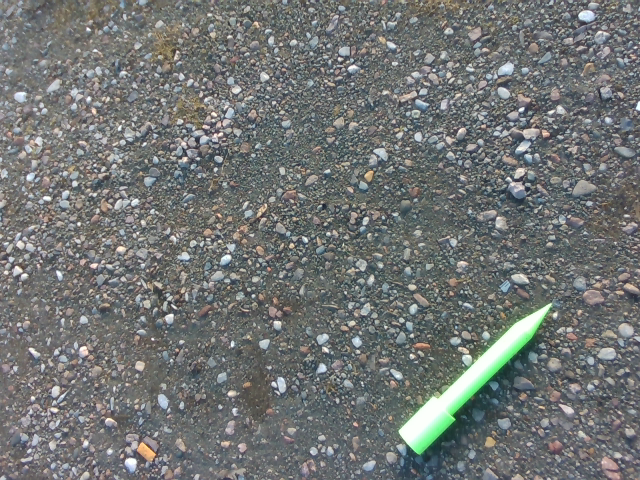Probe: (394, 296, 556, 460)
